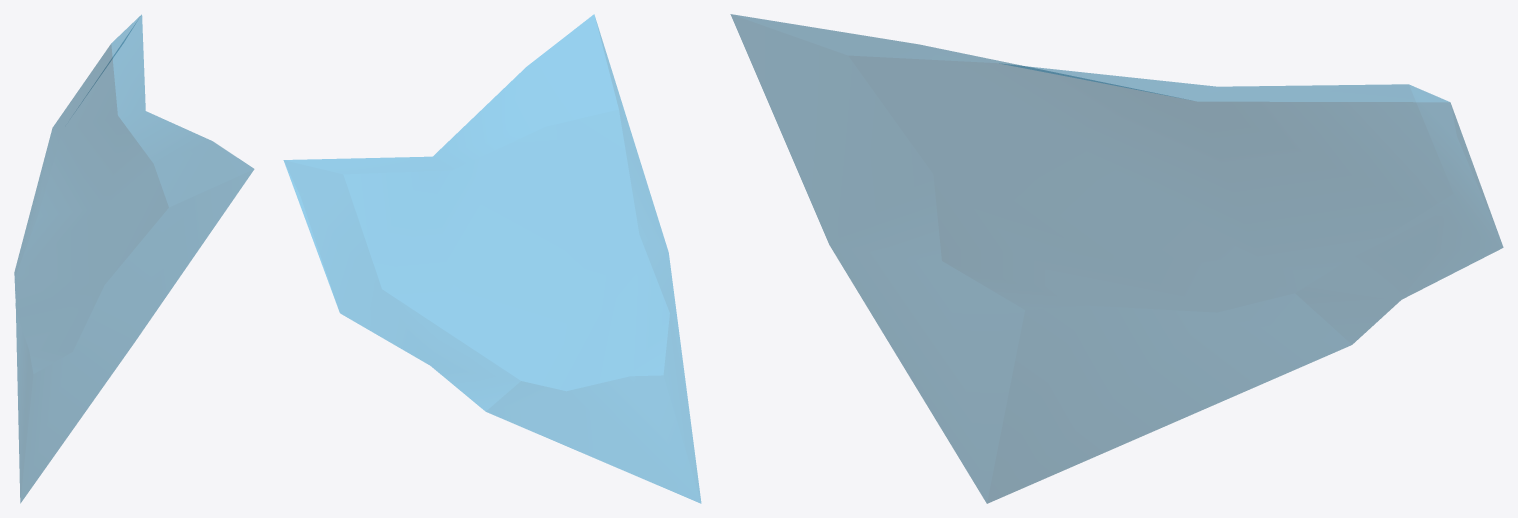
The model's file is p_hvs_minidungeon_rewardlocker_general_shatterglass_part01.fbx.
3 renders of one model, left to right at view 1: azimuth 30°, elevation 25°; view 2: azimuth 150°, elevation 25°; view 3: azimuth 270°, elevation 25°, orthographic. The views are drawn at different scales.
Parts seen in each view (by area): view 1: p_mesh_powerbreaker_glass01; view 2: p_mesh_powerbreaker_glass01; view 3: p_mesh_powerbreaker_glass01.
Part boxes in pixels (x1,y1,x2,y2): p_mesh_powerbreaker_glass01: (14, 14, 254, 503); p_mesh_powerbreaker_glass01: (283, 14, 701, 503); p_mesh_powerbreaker_glass01: (730, 14, 1503, 503).
Bounding box in the file's own units: 0.4372 × 0.584 × 0.6407.
